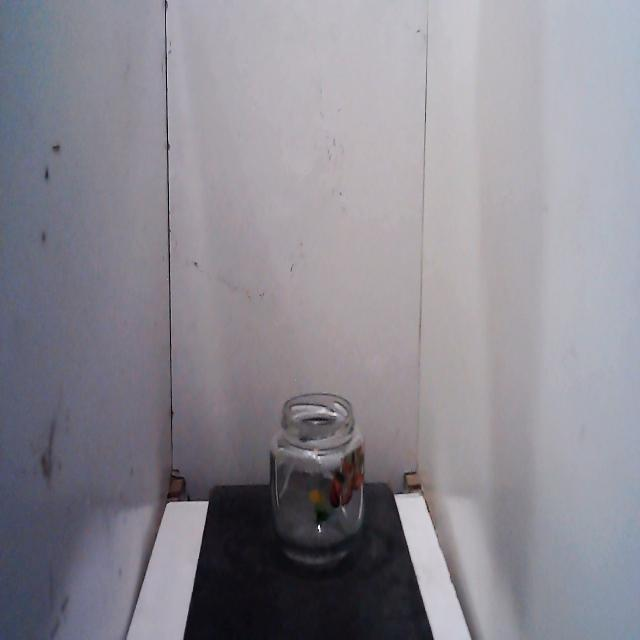vidro: (264, 385, 372, 582)
